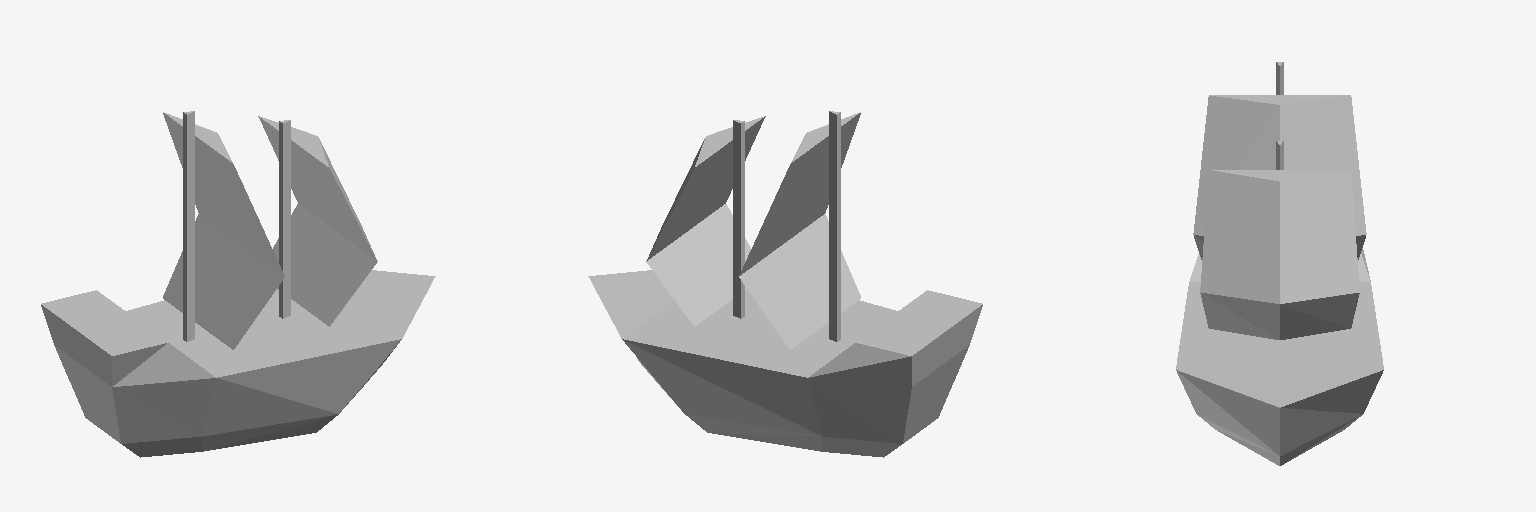
The model's file is pirate.ship.obj.
3 views of the same model, side by side, from view 1: azimuth 30°, elevation 25°; view 2: azimuth 150°, elevation 25°; view 3: azimuth 270°, elevation 25° (orthographic).
Parts seen in each view (by area): view 1: Hull, Sail0, Sail1, Mast0, Mast1; view 2: Hull, Sail0, Sail1, Mast0, Mast1; view 3: Sail1, Hull, Sail0.
Part boxes in pixels (x1,y1,x2,y2): Hull: (41,270,435,457); Sail0: (163,112,284,349); Sail1: (258,116,377,326); Mast0: (183,111,194,341); Mast1: (279,120,290,318); Hull: (588,270,982,457); Sail0: (739,112,860,349); Sail1: (646,116,765,326); Mast0: (829,111,840,341); Mast1: (733,120,744,318); Sail1: (1200,170,1359,339); Hull: (1176,248,1383,465); Sail0: (1193,95,1366,259).
Size of the model in its own units: 3.42 by 2.91 by 1.72.